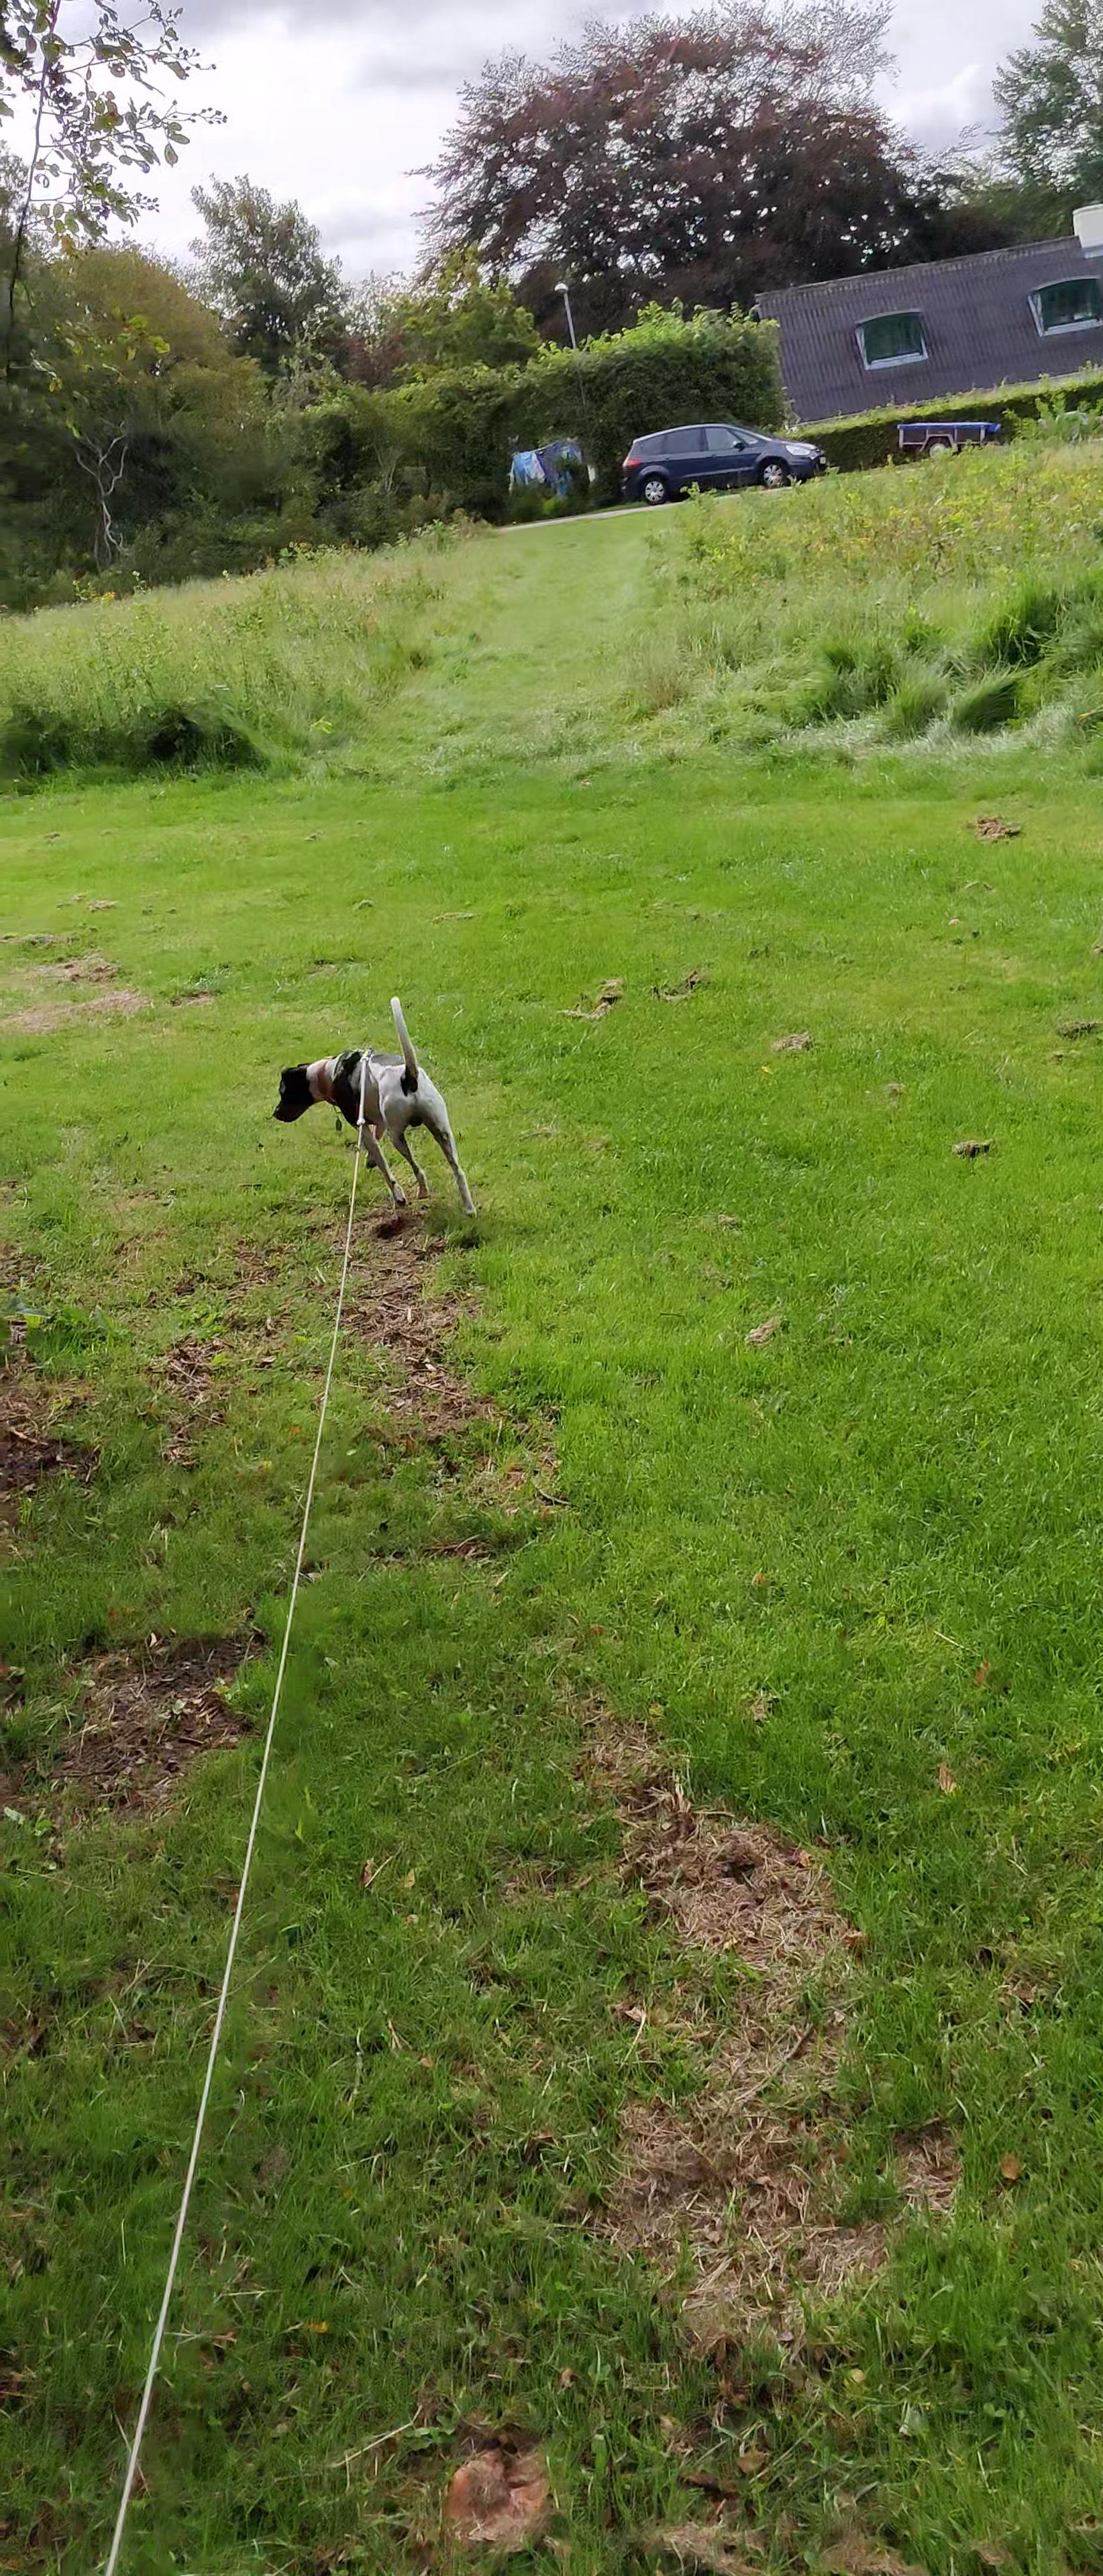Dog: (266, 992, 480, 1222)
